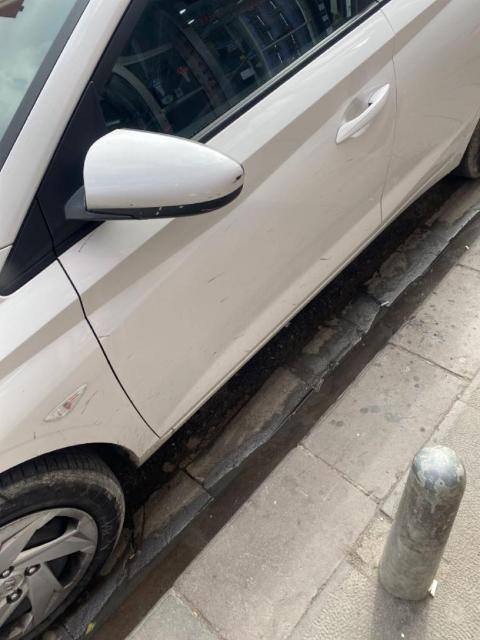scratch: (81, 390, 99, 415), (77, 231, 95, 253), (205, 271, 226, 284), (57, 429, 67, 441), (230, 174, 242, 184), (207, 191, 222, 199), (219, 296, 230, 303), (98, 335, 110, 339), (33, 430, 37, 440)
